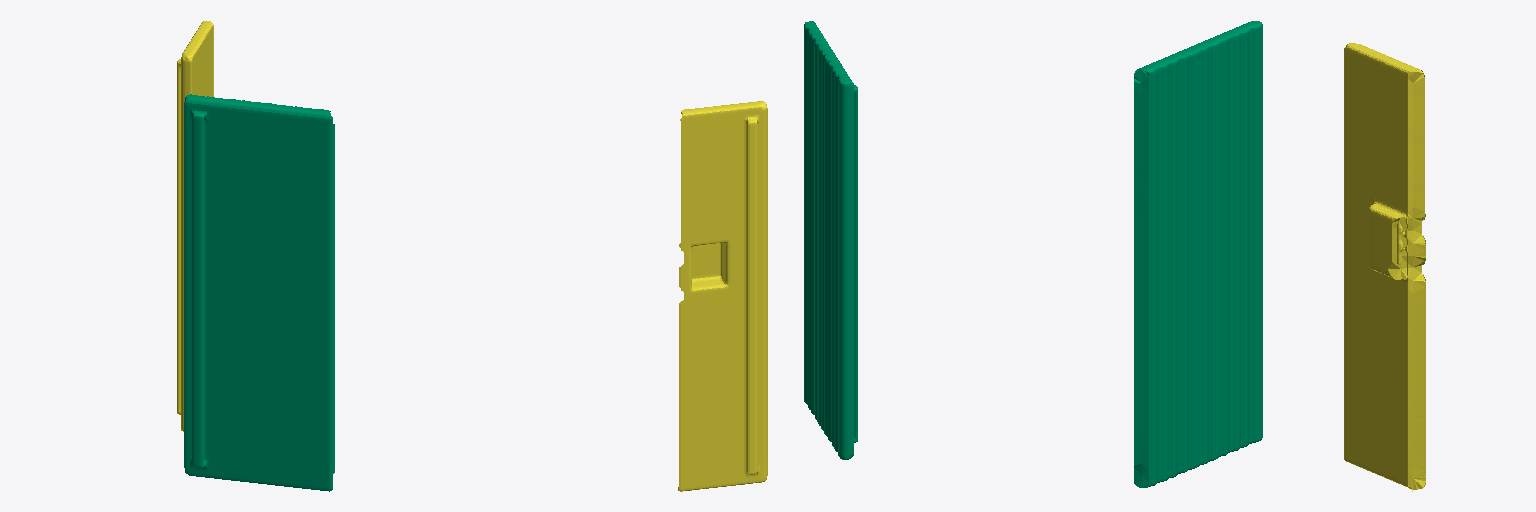
The robot description file, URDF, robot "object":
<?xml version='1.0' encoding='utf-8'?>
<robot name="object">
  <link name="base">
    <inertial>
      <origin xyz="0 0 0" rpy="0 0 0" />
      <mass value="0.0" />
      <inertia ixx="0" ixy="0" ixz="0" iyy="0" iyz="0" izz="0" />
    </inertial>
  </link>
  <link name="link_1">
    <visual>
      <origin xyz="0 0 0" rpy="0 0 0" />
      <geometry>
        <mesh filename="meshes/link_1.stl" />
      </geometry>
    </visual>
    <collision>
      <origin xyz="0 0 0" rpy="0 0 0" />
      <geometry>
        <mesh filename="meshes/link_1.stl" />
      </geometry>
    </collision>
    <inertial>
      <origin xyz="0.166417589 0.0270919215 -0.0712762592" rpy="0 0 0" />
      <mass value="181.425605" />
      <inertia ixx="106.21105" ixy="-0.984666858" ixz="0.117132372" iyy="79.877133" iyz="-1.28834433" izz="27.979829" />
    </inertial>
  </link>
  <link name="link_2">
    <visual>
      <origin xyz="0.226081883 0.499229127 -0.019358677" rpy="0 0 0" />
      <geometry>
        <mesh filename="meshes/link_2.stl" />
      </geometry>
    </visual>
    <collision>
      <origin xyz="0.226081883 0.499229127 -0.019358677" rpy="0 0 0" />
      <geometry>
        <mesh filename="meshes/link_2.stl" />
      </geometry>
    </collision>
    <inertial>
      <origin xyz="-0.221201723 0.20718925 -0.00998472058" rpy="0 0 0" />
      <mass value="52.7080744" />
      <inertia ixx="12.0594531" ixy="0.770936241" ixz="-0.000342096821" iyy="12.0823904" iyz="-0.000598561964" izz="1.57231363" />
    </inertial>
  </link>
  <link name="link_3">
    <visual>
      <origin xyz="0.223171178 -0.455642912 -0.0114649918" rpy="0 0 0" />
      <geometry>
        <mesh filename="meshes/link_3.stl" />
      </geometry>
    </visual>
    <collision>
      <origin xyz="0.223171178 -0.455642912 -0.0114649918" rpy="0 0 0" />
      <geometry>
        <mesh filename="meshes/link_3.stl" />
      </geometry>
    </collision>
    <inertial>
      <origin xyz="-0.129044365 -0.1158732 -0.00821696977" rpy="0 0 0" />
      <mass value="28.0035737" />
      <inertia ixx="6.21975162" ixy="-0.128426754" ixz="0.0139317309" iyy="6.23090639" iyz="0.0203164737" izz="0.276206815" />
    </inertial>
  </link>
  <joint name="joint_1_2" type="revolute">
    <parent link="link_1" />
    <child link="link_2" />
    <origin xyz="-0.226081883 -0.499229127 0.019358677" rpy="0 0 0" />
    <axis xyz="-2.79392757e-05 -0.000560651418 -0.999999842" />
    <limit lower="-1.57" upper="1.57" effort="10.0" velocity="1.0" />
  </joint>
  <joint name="joint_1_3" type="revolute">
    <parent link="link_1" />
    <child link="link_3" />
    <origin xyz="-0.223171178 0.455642912 0.0114649918" rpy="0 0 0" />
    <axis xyz="-0.000949188895 0.0367640328 -0.999323524" />
    <limit lower="-1.57" upper="1.57" effort="10.0" velocity="1.0" />
  </joint>
  <joint name="base_to_1" type="fixed">
    <parent link="base" />
    <child link="link_1" />
    <origin xyz="0 0 0" rpy="0 0 0" />
  </joint>
</robot>

--- Facts derived from the render (not from the file) ---
3 views of the same robot in one strip: view 1: azimuth 30°, elevation 25°; view 2: azimuth 150°, elevation 25°; view 3: azimuth 270°, elevation 25° (orthographic).
Model object with 4 links and 3 joints (2 revolute, 1 fixed), rooted at base, posed all joints at 0.
Links seen in each view (by area): view 1: link_2, link_3; view 2: link_3, link_2; view 3: link_2, link_3.
Link boxes in pixels (box(x1,y1,x2,y2)): link_2: box(184, 94, 334, 491); link_3: box(177, 21, 213, 431); link_3: box(678, 101, 767, 491); link_2: box(804, 21, 857, 459); link_2: box(1134, 21, 1262, 487); link_3: box(1344, 43, 1425, 491).
Bounding box of the posed robot: 0.4515 × 1.02 × 1.62 m (x, y, z).
2 mesh visuals loaded from 3 distinct referenced files (2 binary STL); not drawn: 1 (reference not matched to a file when rendering).
